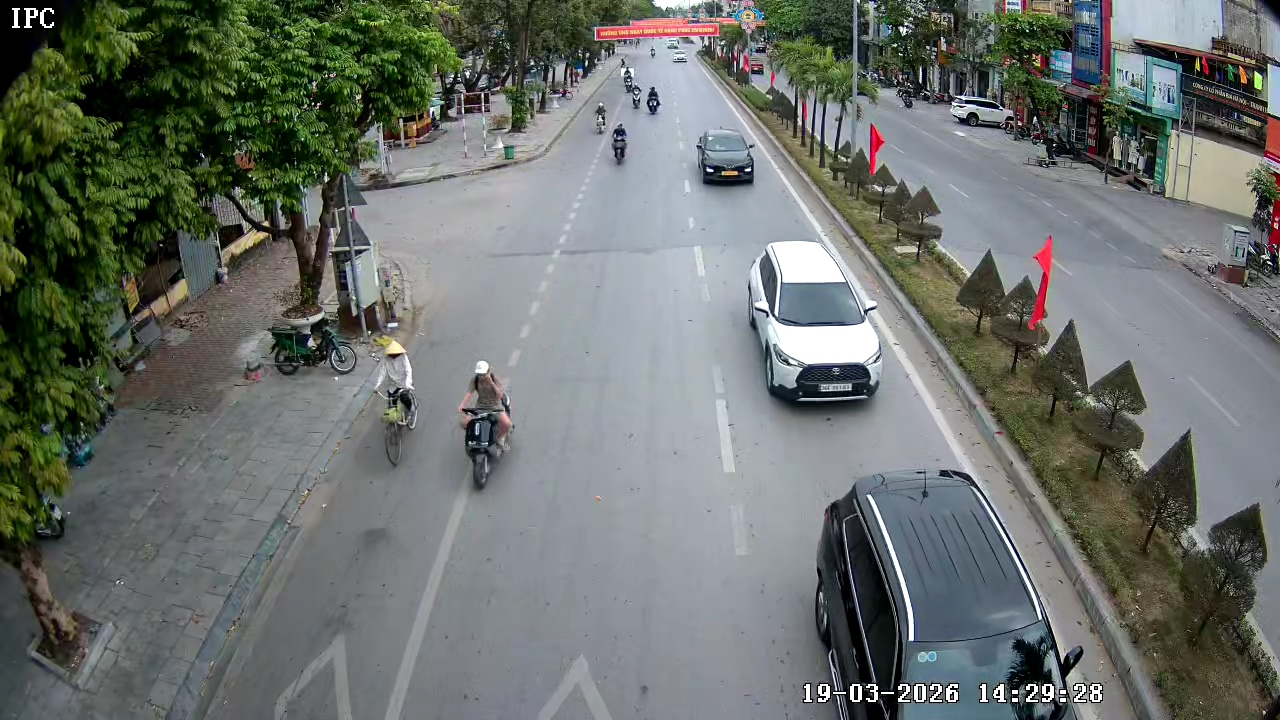bike: (372, 322, 421, 460), (591, 99, 610, 134)
car: (812, 469, 1098, 719), (745, 242, 883, 403), (695, 127, 756, 186)
motorbike: (456, 359, 516, 491), (263, 308, 359, 376), (613, 122, 632, 166), (628, 83, 643, 110), (648, 87, 661, 115)
